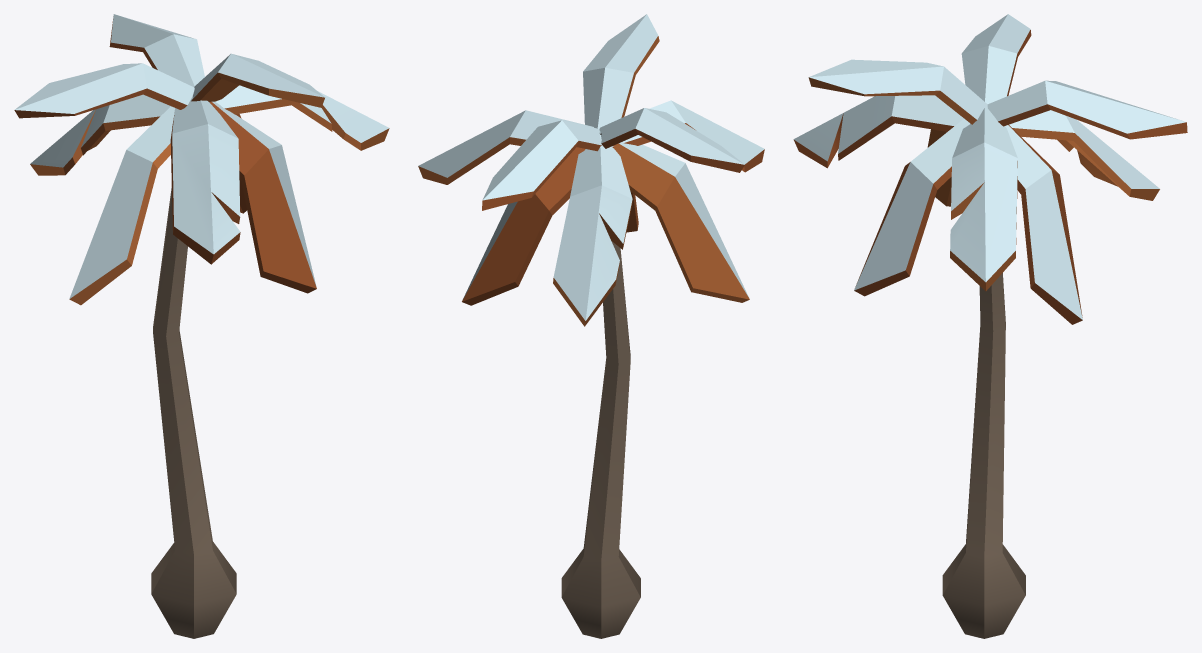
File: SM_Env_Pirate_Palm_01_Snow.fbx
3 renders of one model, left to right at view 1: azimuth 30°, elevation 25°; view 2: azimuth 150°, elevation 25°; view 3: azimuth 270°, elevation 25°, orthographic. The views are drawn at different scales.
Visible parts, largest first — view 1: SM_Env_Pirate_Palm_01_Snow; view 2: SM_Env_Pirate_Palm_01_Snow; view 3: SM_Env_Pirate_Palm_01_Snow.
Part boxes in pixels (x1=…): SM_Env_Pirate_Palm_01_Snow: x1=14, y1=14, x2=389, y2=638; SM_Env_Pirate_Palm_01_Snow: x1=418, y1=14, x2=764, y2=638; SM_Env_Pirate_Palm_01_Snow: x1=793, y1=14, x2=1187, y2=638.
Size of the model in its own units: 74.14 by 115 by 71.47.
1 material, 1 textured.
